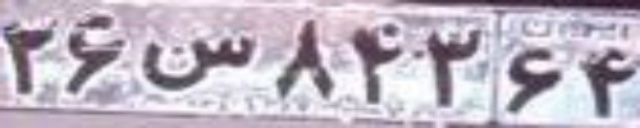2: (2, 18, 56, 93)
3: (425, 28, 486, 109)
4: (350, 26, 410, 103), (578, 50, 636, 115)
6: (62, 15, 125, 94), (500, 49, 563, 111)
8: (270, 19, 332, 99)
sin: (139, 36, 256, 91)
